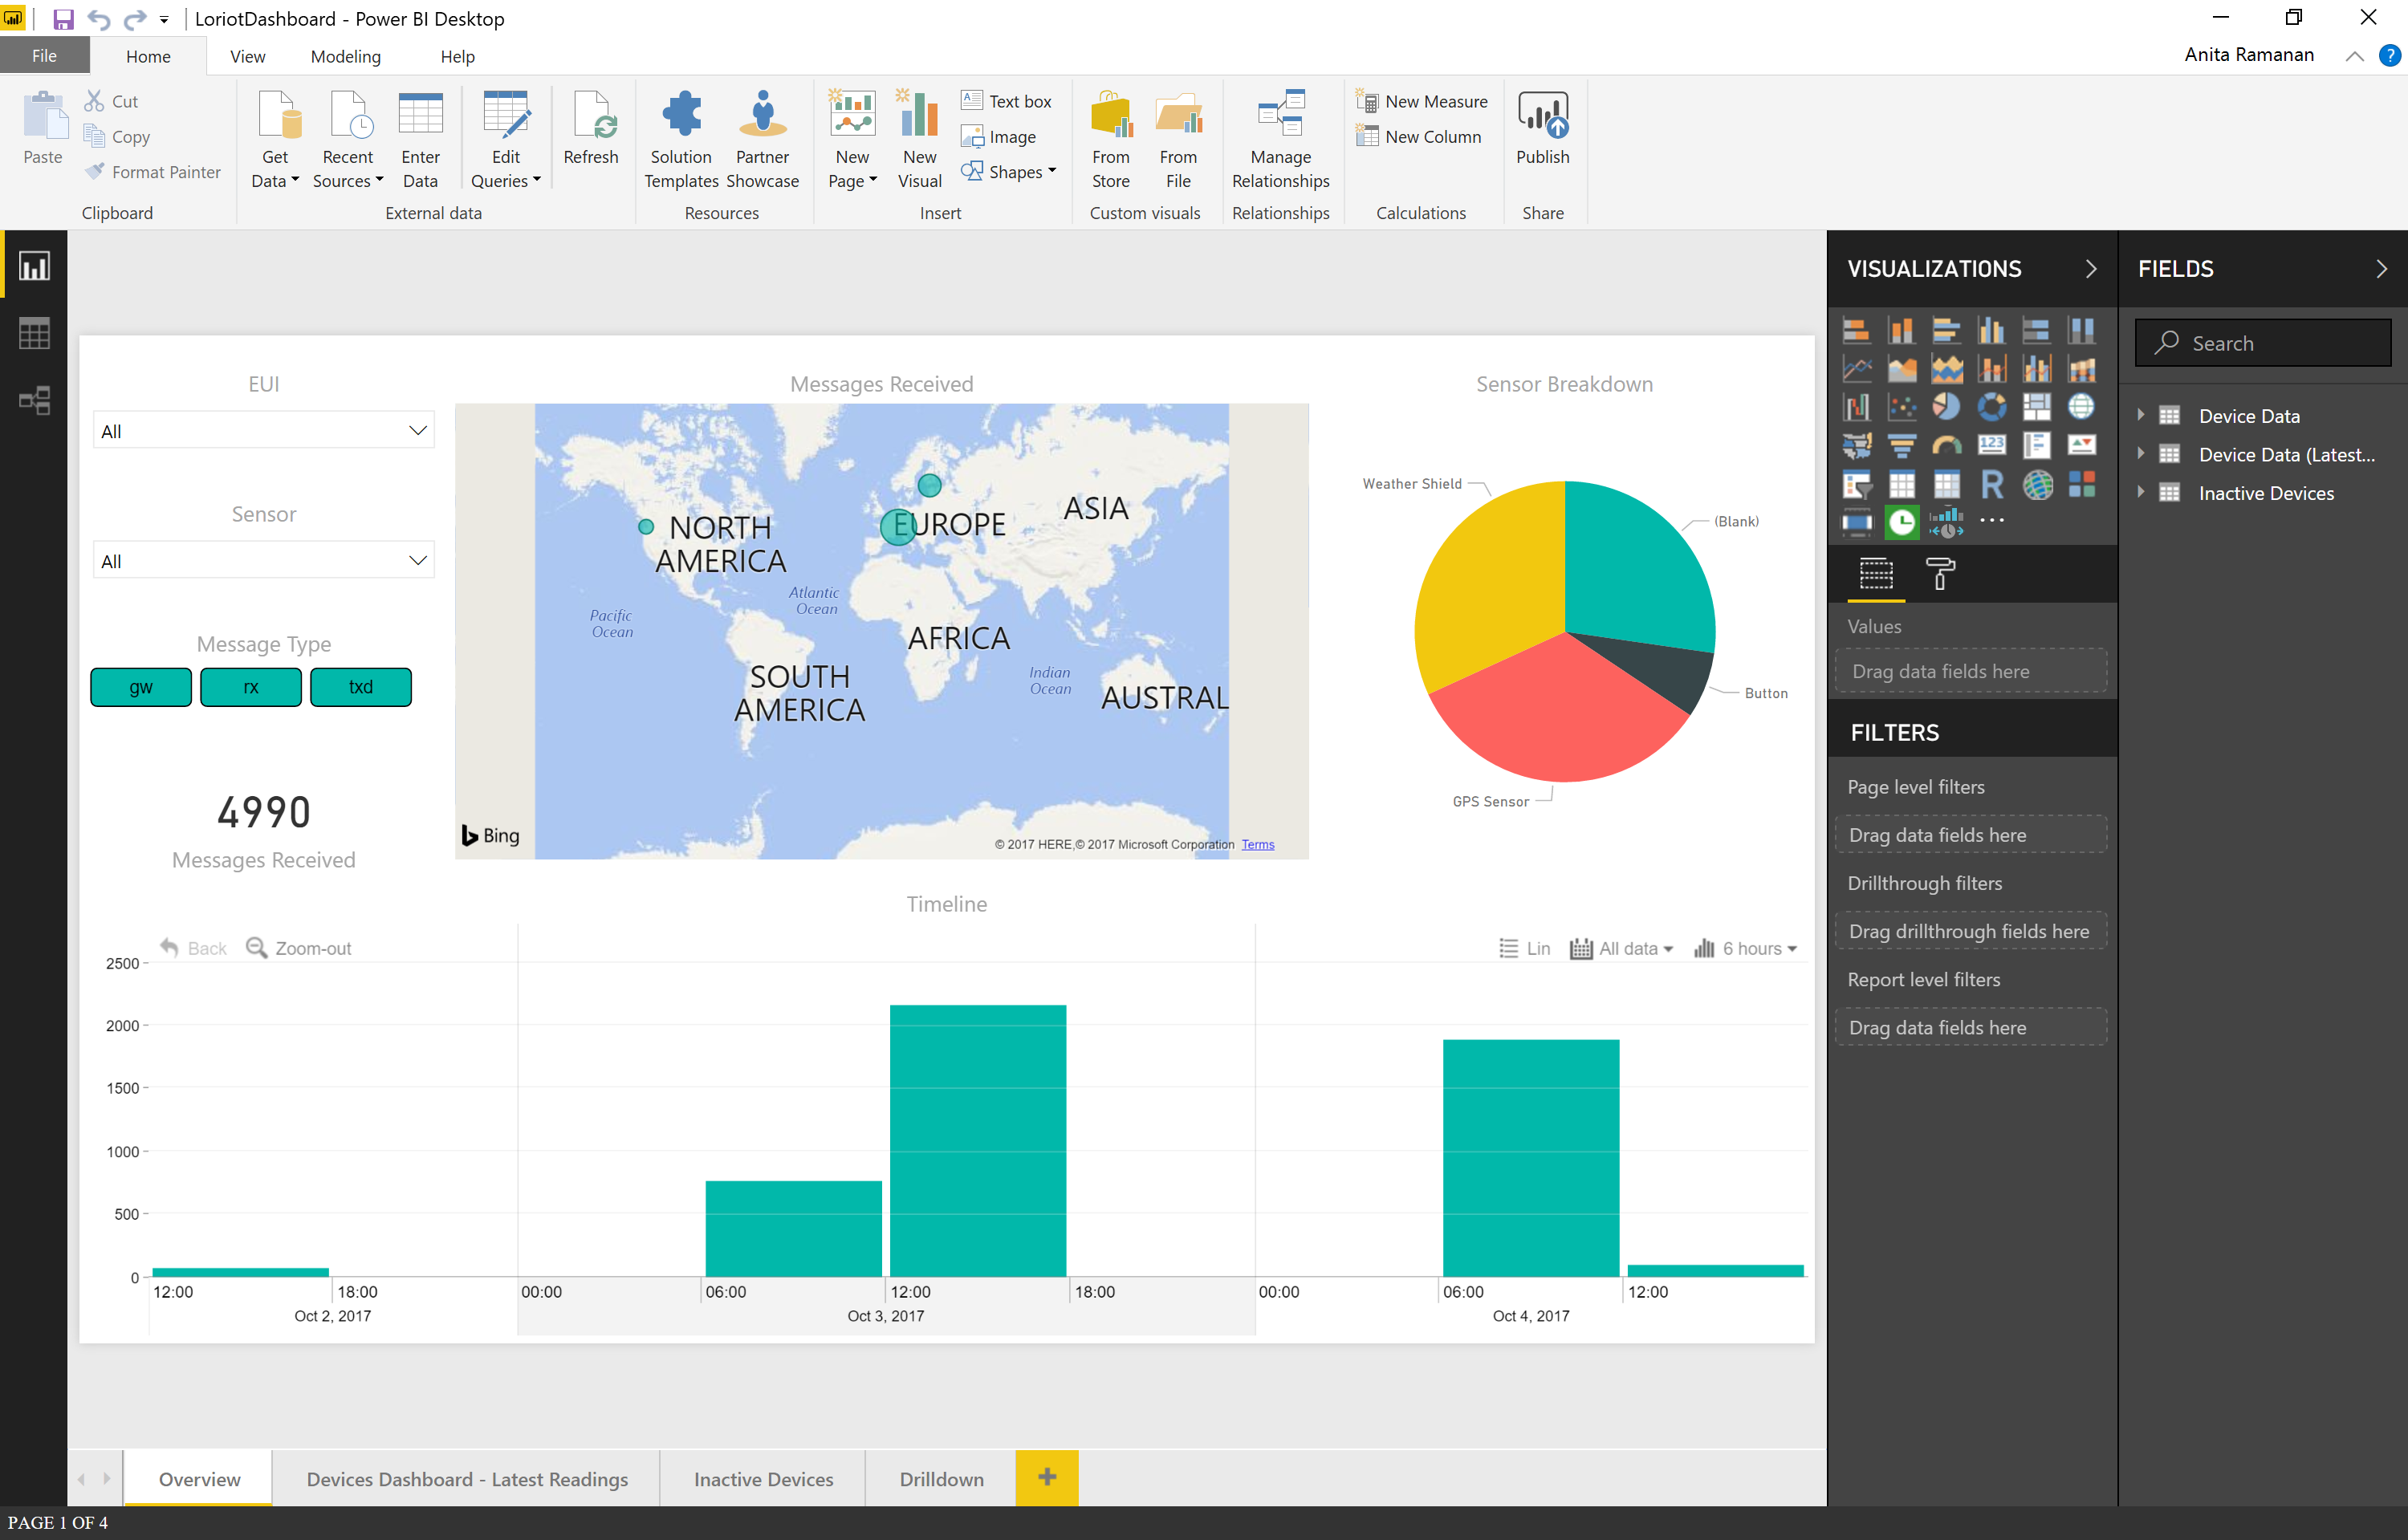

What the dashboard file says about the page in this screenshot:
{"tool":"powerbi","page":{"name":"Overview","canvas":[1280,720],"ordinal":0},"visuals":[{"type":"pieChart","fields":{"Category":["Loriot.Sensor Name"],"Y":["CountNonNull(Loriot.EUI)"]},"box":[912,0,368,368],"z":2},{"type":"slicer","fields":{"Values":["Loriot.EUI"]},"box":[0,0,272,80],"z":4},{"type":"slicer","fields":{"Values":["Loriot.Sensor Name"]},"box":[0,96,272,80],"z":4},{"type":"ChicletSlicer1448559807354","fields":{"Category":["Loriot.Message Type"]},"box":[0,192,272,80],"z":5},{"type":"card","fields":{"Values":["Loriot.Messages Received"]},"box":[0,288,272,96],"z":5},{"type":"ZoomChartsTimeChartFree33C9F325D337408C98D4E1D4E1EAD705","fields":{"Category":["Loriot.Timestamp (Gateway)"],"Values":["CountNonNull(Loriot.EUI)"]},"box":[0,384,1280,336],"z":5},{"type":"map","fields":{"Y":["Loriot.Device Latitude"],"X":["Loriot.Device Longitude"],"Size":["Loriot.Messages Received"]},"box":[272,0,640,368],"z":6}]}

Visuals, with their boxes on the page's 1280x720 design canvas (x1, y1, x2, y2). These are canvas units, not pixel positions in the 2408x1540 screenshot, which may show the page scaled, cropped or inside an application window:
pieChart - Loriot.Sensor Name x CountNonNull(Loriot.EUI): l=912, t=0, r=1280, b=368
slicer - Loriot.EUI: l=0, t=0, r=272, b=80
slicer - Loriot.Sensor Name: l=0, t=96, r=272, b=176
ChicletSlicer1448559807354 - Loriot.Message Type: l=0, t=192, r=272, b=272
card - Loriot.Messages Received: l=0, t=288, r=272, b=384
ZoomChartsTimeChartFree33C9F325D337408C98D4E1D4E1EAD705 - Loriot.Timestamp (Gateway) x CountNonNull(Loriot.EUI): l=0, t=384, r=1280, b=720
map - Loriot.Device Latitude x Loriot.Device Longitude: l=272, t=0, r=912, b=368
